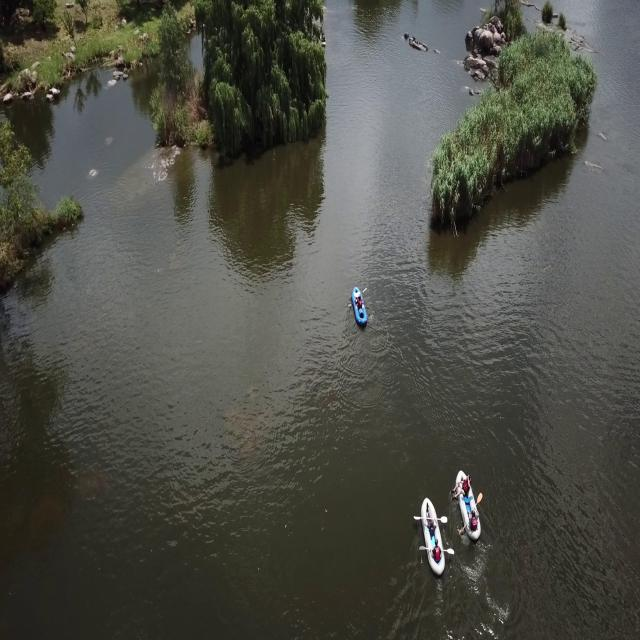kayak: (416, 494, 452, 579), (450, 469, 486, 549), (348, 281, 371, 334)
